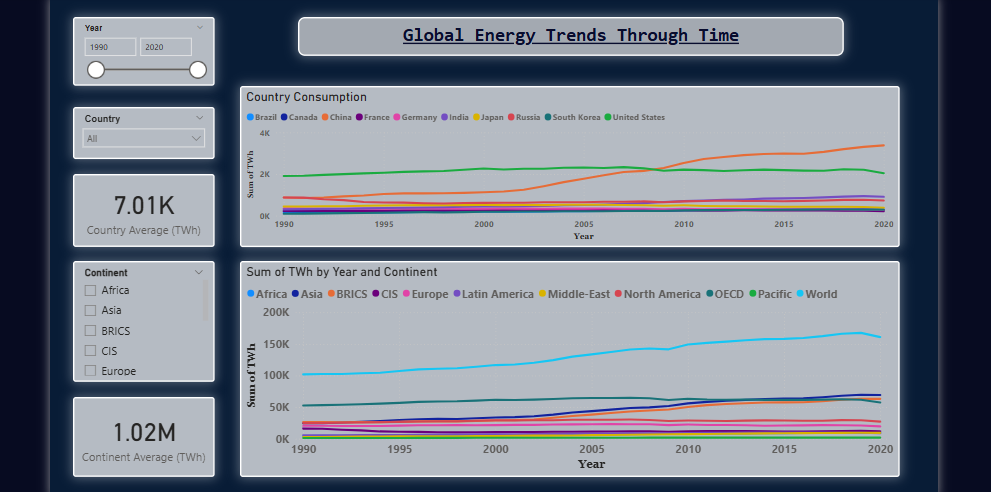

This screenshot's page, from the dashboard's own definition file:
{"tool":"powerbi","page":{"name":"Global Consumption","canvas":[1280,720],"ordinal":0},"visuals":[{"type":"textbox","box":[357.1,28.8,786.2,56.2],"z":0},{"type":"slicer","fields":{"Values":["Continent_Consumption_TWH.Year"]},"box":[33.1,28.8,204.5,99.4],"z":1000},{"type":"lineChart","title":"Country Consumption","fields":{"Y":["Sum(Country_Table.TWh)"],"Series":["Country_Table.Country"],"Category":["Country_Table.Year"]},"box":[273.6,128.2,950.4,231.8],"z":2000},{"type":"slicer","fields":{"Values":["Country_Table.Country"]},"box":[33.1,158.4,204.5,74.9],"z":3000},{"type":"card","fields":{"Values":["Country_Table.Country Average (TWh)"]},"box":[33.1,254.9,204.5,105.1],"z":4000},{"type":"lineChart","fields":{"Category":["Continent_Consumption_TWH.Year"],"Y":["Sum(Continent_Table.TWh)"],"Series":["Continent_Table.Continent"]},"box":[273.6,380.2,950.4,311],"z":5000},{"type":"slicer","fields":{"Values":["Continent_Table.Continent"]},"box":[33.1,380.2,204.5,174.2],"z":6000},{"type":"card","fields":{"Values":["Continent_Table.Continent Average (TWh)"]},"box":[33.1,576,204.5,115.2],"z":7000}]}

Visuals, with their boxes in screenshot pixels (x1, y1, x2, y2):
textbox: {"left": 296, "top": 12, "right": 847, "bottom": 52}
slicer - Continent_Consumption_TWH.Year: {"left": 70, "top": 12, "right": 213, "bottom": 82}
"Country Consumption" lineChart: {"left": 238, "top": 82, "right": 903, "bottom": 244}
slicer - Country_Table.Country: {"left": 70, "top": 103, "right": 213, "bottom": 156}
card - Country_Table.Country Average (TWh): {"left": 70, "top": 171, "right": 213, "bottom": 244}
lineChart - Continent_Consumption_TWH.Year x Sum(Continent_Table.TWh): {"left": 238, "top": 258, "right": 903, "bottom": 476}
slicer - Continent_Table.Continent: {"left": 70, "top": 258, "right": 213, "bottom": 380}
card - Continent_Table.Continent Average (TWh): {"left": 70, "top": 395, "right": 213, "bottom": 476}
